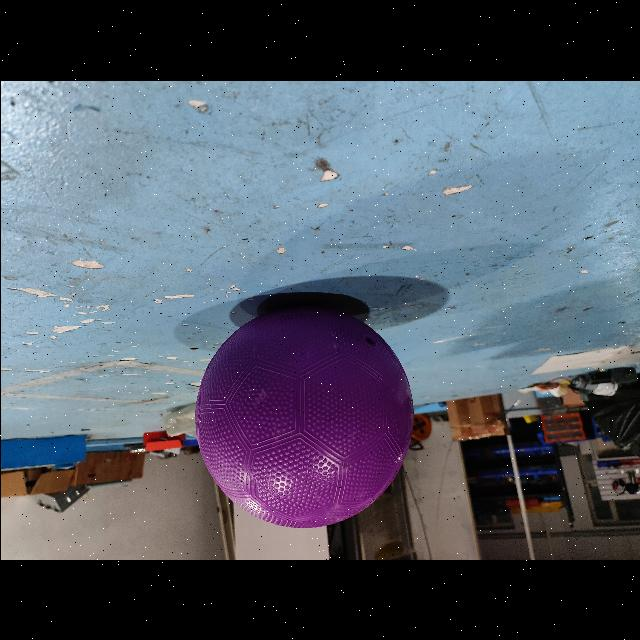P: (194, 305, 412, 529)
